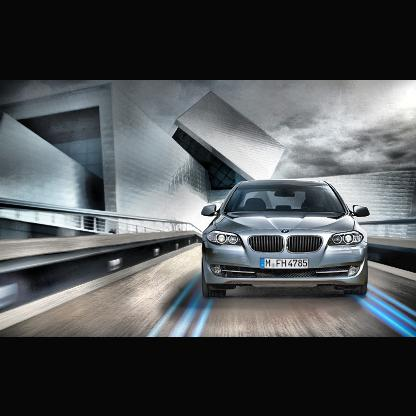BMW ActiveHybrid 5 Sedan 2012: (201, 181, 373, 298)
